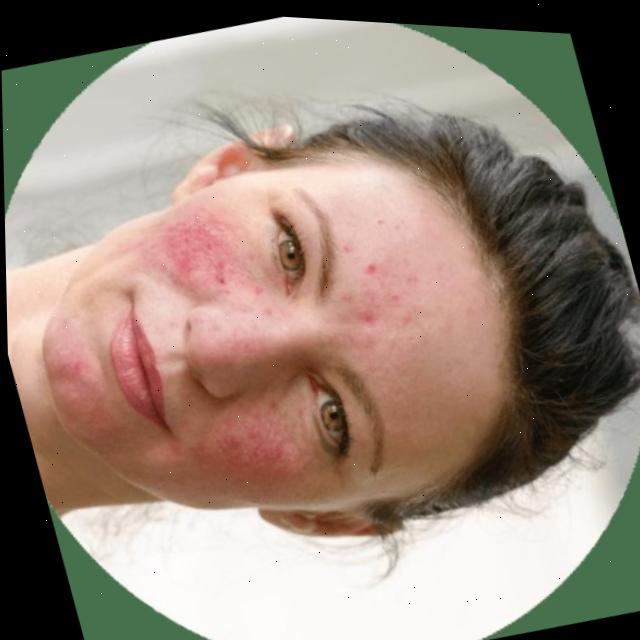Rosacea: (126, 180, 268, 334), (214, 396, 322, 498), (339, 243, 442, 346)
